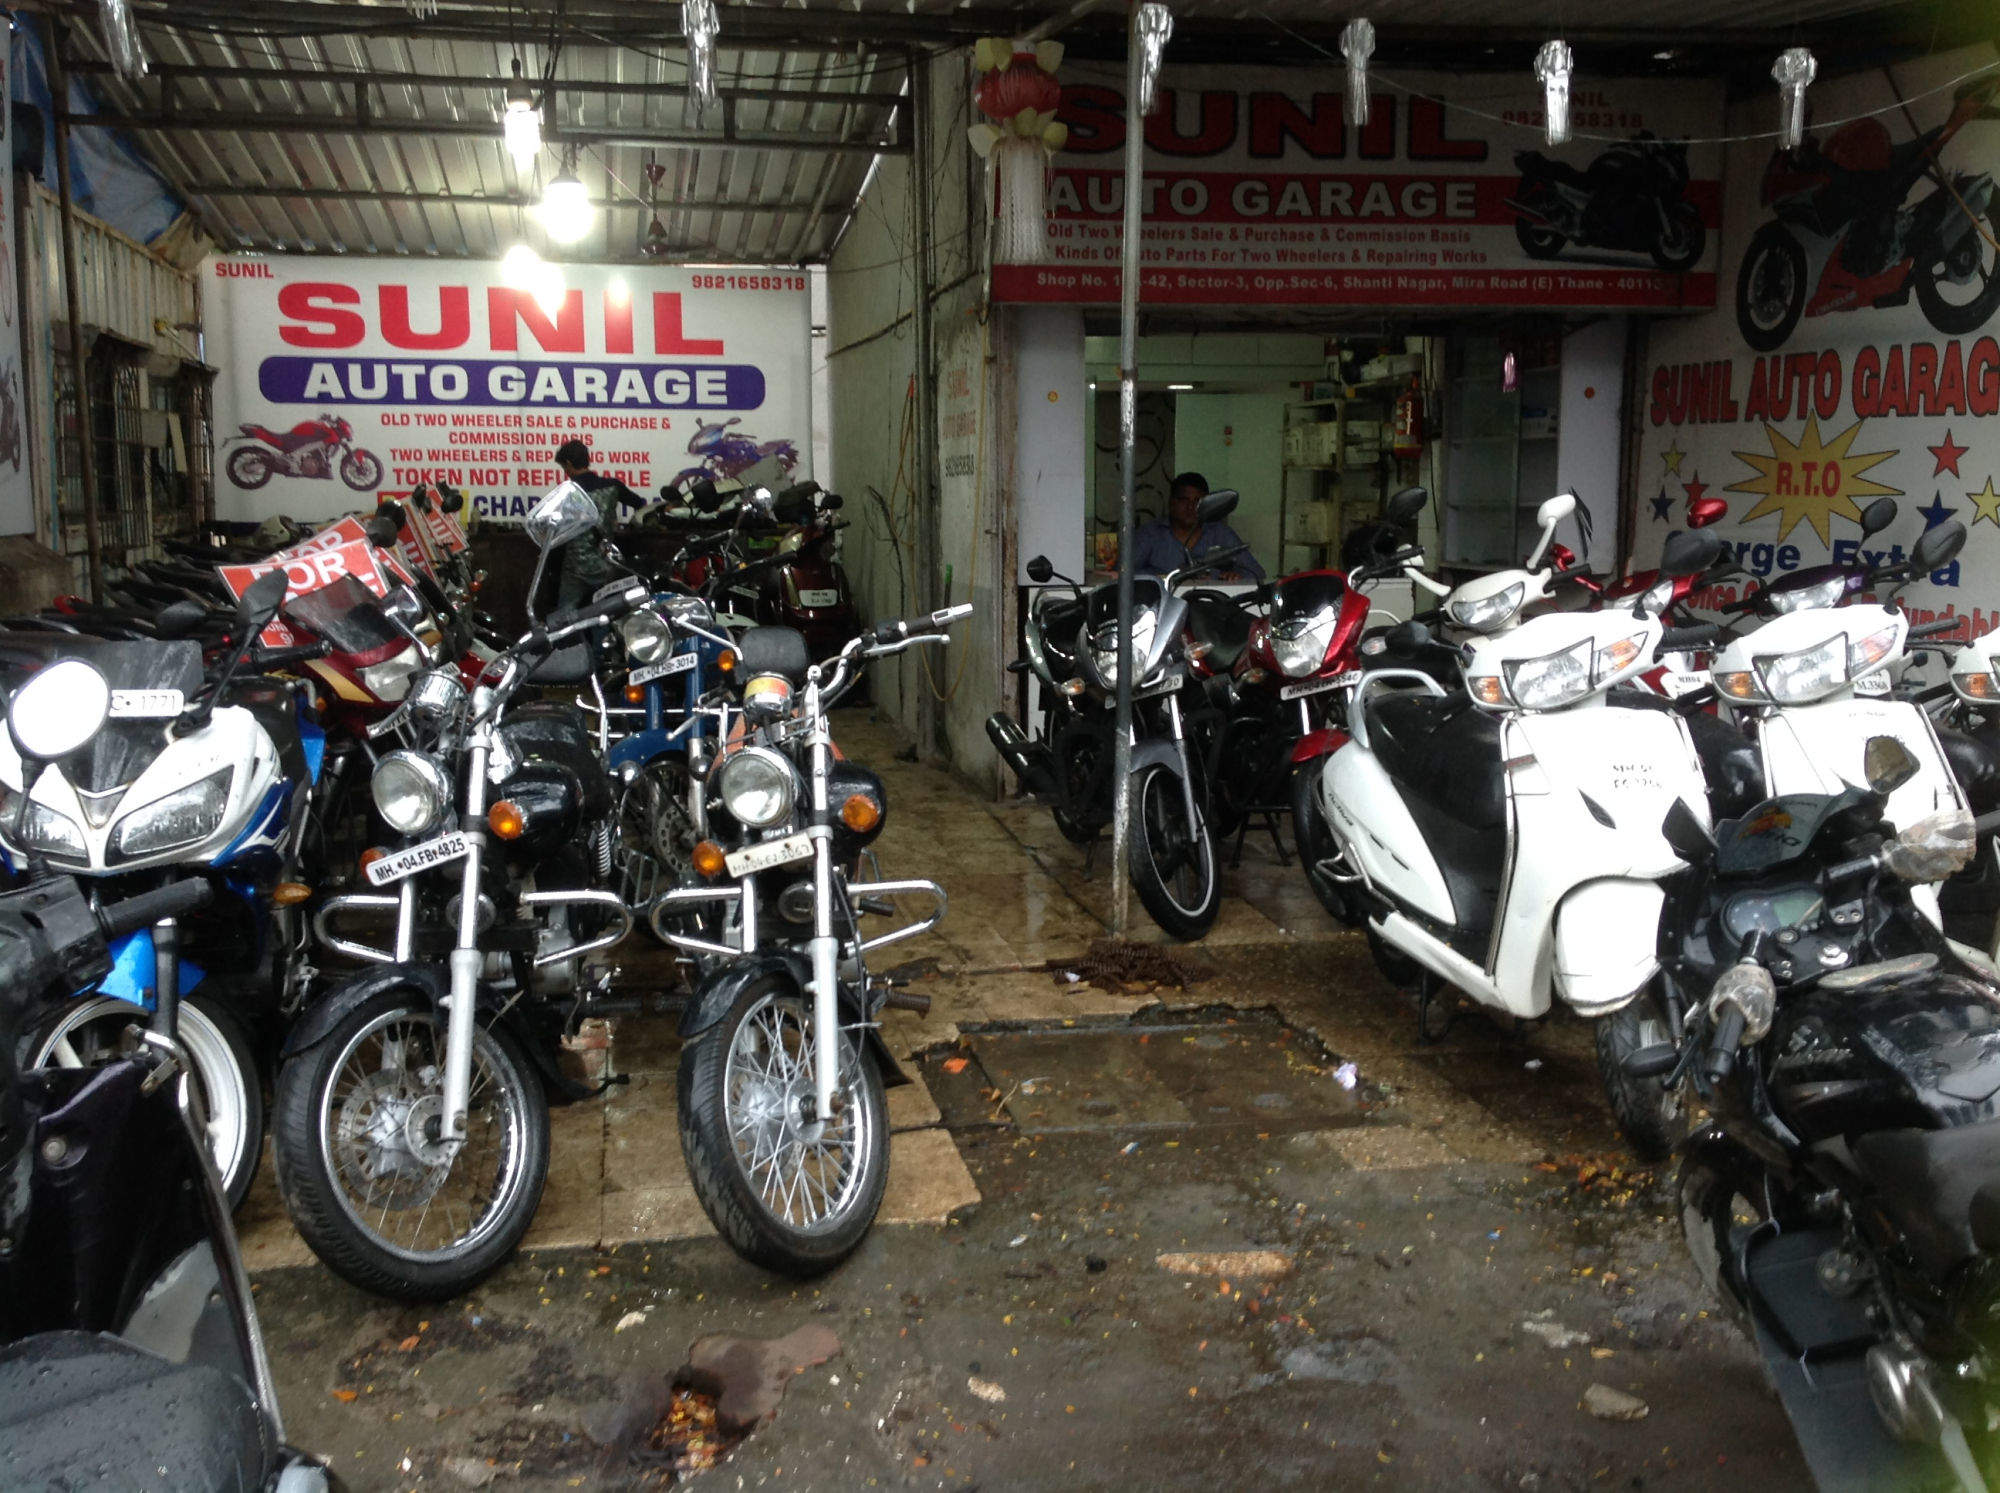Bike: (656, 659, 966, 1264), (298, 706, 616, 1267), (1412, 630, 1678, 1037)
